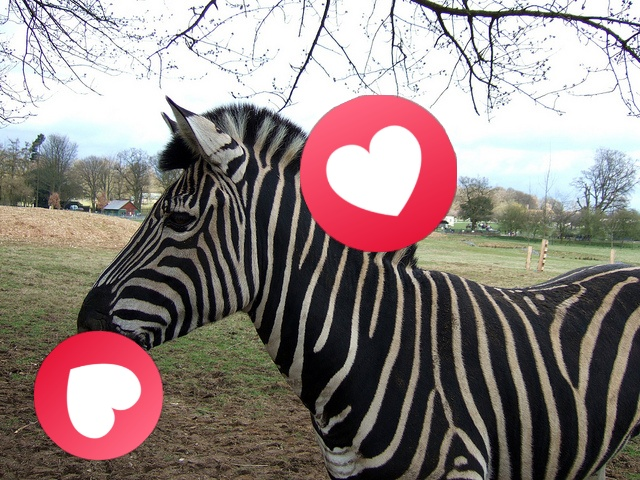love: (300, 95, 457, 252), (34, 331, 163, 460)
